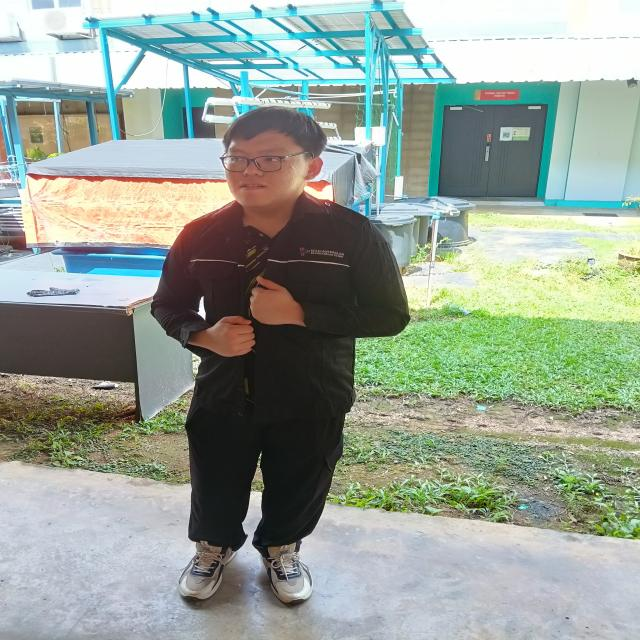person_with_labcoat: (151, 107, 409, 603)
